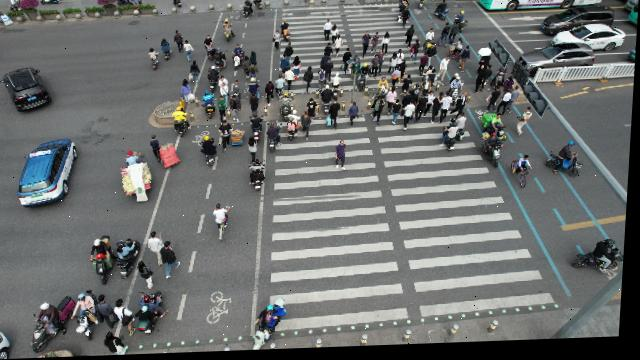non-motor-vehicle: (33, 296, 79, 350), (576, 239, 628, 281), (251, 301, 290, 351), (546, 144, 589, 183), (125, 152, 152, 206), (75, 291, 103, 339), (94, 236, 118, 285), (139, 293, 166, 336), (118, 239, 144, 280), (482, 135, 510, 171), (512, 158, 540, 193), (481, 117, 513, 144), (216, 205, 235, 243), (198, 138, 220, 165), (172, 109, 192, 138), (266, 124, 284, 156), (251, 163, 270, 191), (445, 125, 463, 154), (200, 92, 217, 122), (218, 21, 238, 44), (456, 118, 473, 145), (278, 22, 297, 43), (250, 115, 267, 138), (214, 48, 230, 71), (7, 0, 40, 11), (207, 67, 221, 92), (290, 113, 302, 141), (231, 46, 245, 70), (495, 68, 508, 91), (324, 88, 334, 117), (159, 41, 173, 61), (453, 41, 464, 66), (249, 80, 262, 101), (454, 17, 468, 36), (437, 5, 450, 25), (243, 0, 256, 20), (148, 50, 160, 71), (277, 77, 286, 102), (379, 79, 390, 99), (425, 31, 435, 52), (413, 86, 422, 109), (252, 0, 269, 12), (404, 77, 412, 101), (419, 0, 429, 11), (399, 0, 408, 4)
person: (151, 135, 182, 171), (115, 300, 143, 338), (216, 122, 249, 153), (95, 294, 121, 331), (163, 242, 186, 281), (515, 110, 536, 141), (150, 233, 168, 267), (108, 332, 133, 356), (139, 263, 159, 290), (372, 99, 388, 129), (329, 99, 343, 133), (203, 36, 218, 65), (229, 98, 244, 124), (301, 114, 314, 144), (405, 103, 417, 135), (455, 94, 470, 119), (337, 143, 350, 171), (487, 93, 502, 116), (264, 82, 277, 108), (461, 48, 472, 78), (180, 82, 195, 103), (304, 68, 315, 96), (219, 84, 231, 109), (250, 95, 262, 120), (428, 46, 440, 71), (218, 97, 230, 121), (440, 25, 451, 51), (249, 138, 261, 161), (318, 67, 328, 94), (503, 93, 512, 123), (333, 34, 344, 58), (307, 101, 318, 125), (404, 94, 415, 118), (371, 58, 382, 82), (376, 52, 387, 76), (388, 89, 397, 118), (477, 69, 486, 98), (393, 102, 403, 128), (361, 34, 371, 60), (286, 70, 297, 93), (512, 90, 521, 118), (281, 55, 293, 76), (436, 96, 444, 126), (443, 95, 451, 125), (481, 50, 495, 66), (382, 35, 392, 57), (401, 10, 412, 30), (273, 33, 283, 55), (333, 75, 342, 99), (323, 22, 333, 43), (249, 64, 260, 83), (451, 24, 460, 47), (349, 106, 361, 123), (450, 80, 462, 97), (421, 96, 428, 125), (326, 61, 334, 86), (406, 32, 417, 50), (372, 35, 381, 57), (218, 76, 231, 91), (506, 80, 514, 104), (390, 54, 399, 75), (428, 94, 435, 121), (243, 57, 251, 80), (420, 55, 428, 78), (331, 27, 340, 47), (394, 70, 402, 92), (413, 42, 420, 67), (322, 56, 331, 75), (284, 47, 296, 60), (173, 31, 185, 44), (250, 52, 259, 69), (400, 63, 408, 82), (486, 67, 492, 92), (185, 43, 194, 58), (397, 53, 404, 72), (189, 63, 200, 75), (293, 59, 302, 71), (399, 6, 407, 18), (325, 47, 333, 57), (235, 83, 242, 93)
